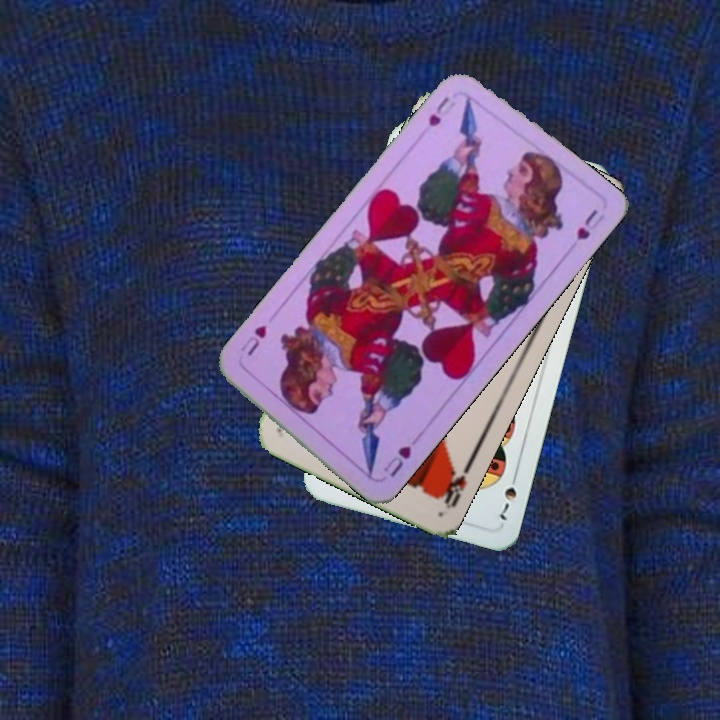HO: (433, 457, 475, 512)
HU: (379, 442, 414, 480), (424, 92, 452, 130)
S7: (495, 467, 521, 523)
